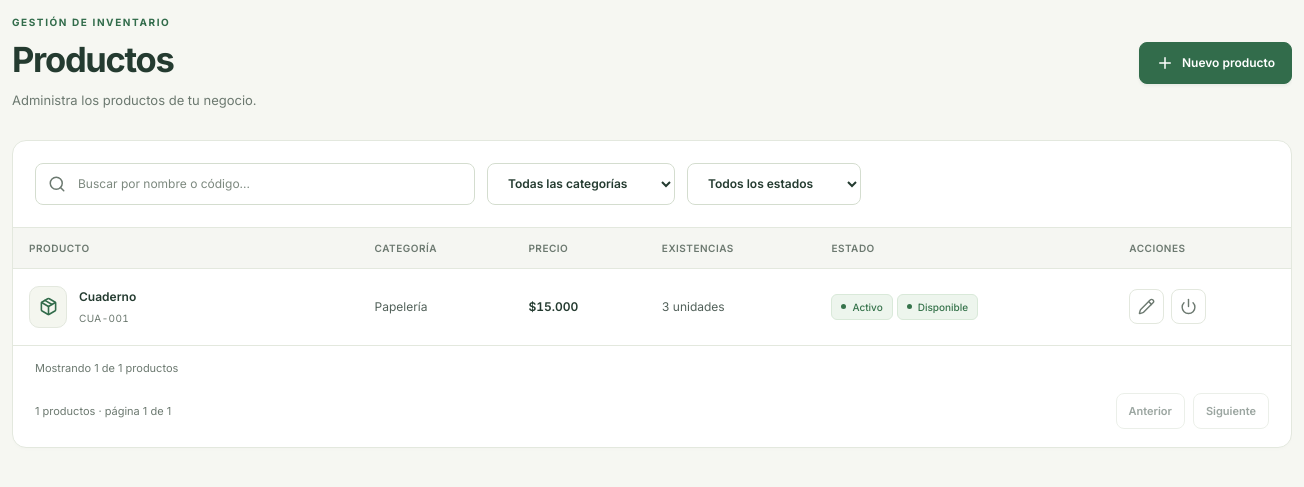
Test: consulta, busca por código y muestra un resultado vacío
This screenshot has width=1304, height=487.
Expected: the text "Cuaderno" is shown, [79, 288, 136, 306]
Type "CUA-001" into the search field.
click(269, 184); type("CUA-001")  # box [76, 164, 462, 204]
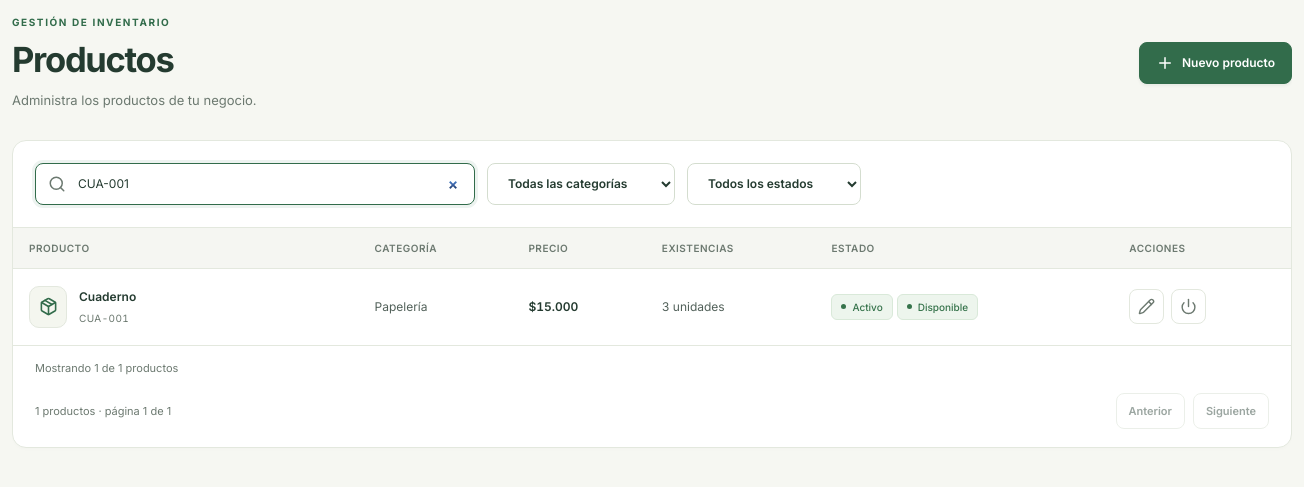
Expected: the text "Cuaderno" is shown, [79, 288, 136, 306]
Replace the text in the search field with "inexistente" at (269, 184), box [76, 164, 462, 204]
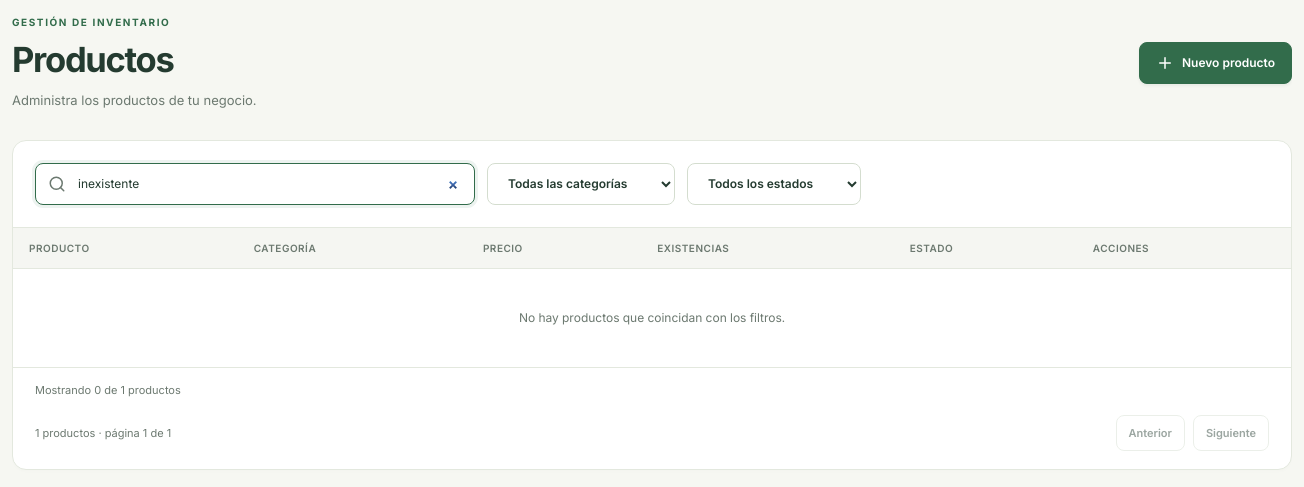
Result: the text "No hay productos que coincidan con los filtros." is shown at [13, 268, 1291, 367]
